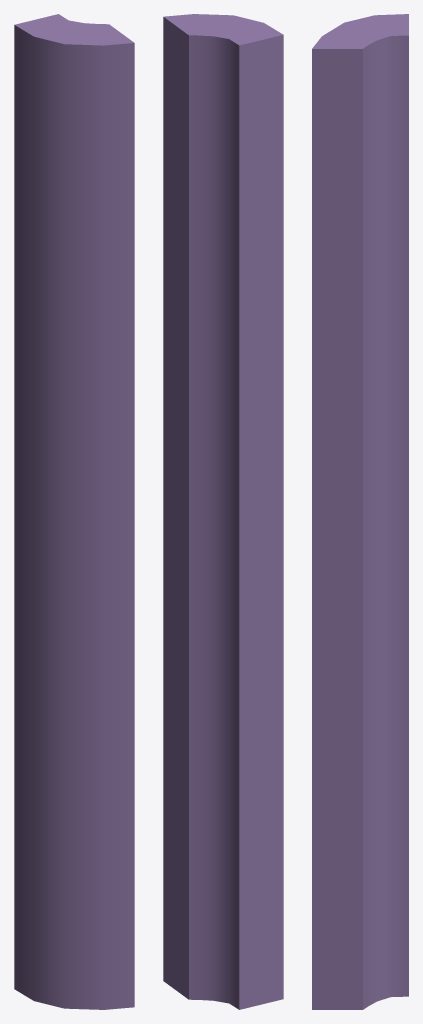
The model's file is curva.fbx.
3 views of the same model, side by side, from view 1: azimuth 30°, elevation 25°; view 2: azimuth 210°, elevation 25°; view 3: azimuth 270°, elevation 25° (orthographic).
Parts seen in each view (by area): view 1: Box008; view 2: Box008; view 3: Box008.
Part boxes in pixels (box(x1,y1,x2,y2)): Box008: box(14, 14, 134, 1009); Box008: box(163, 14, 283, 1009); Box008: box(312, 14, 408, 1009).
Bounding box in the file's own units: 13.55 × 174 × 15.93.
